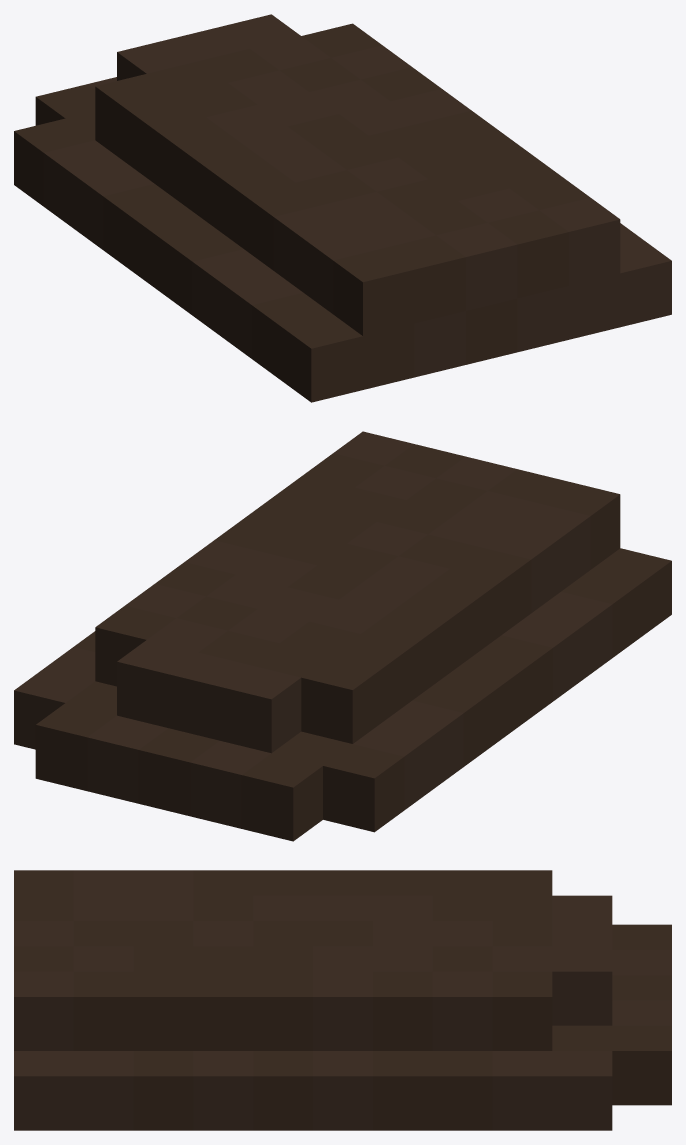
File: farm-58-crop_base.obj
3 renders of one model, top to bottom at view 1: azimuth 30°, elevation 25°; view 2: azimuth 150°, elevation 25°; view 3: azimuth 270°, elevation 25°, orthographic.
Visible parts, largest first — view 1: crop_base; view 2: crop_base; view 3: crop_base.
Boxes of the visible parts, left/top/right/bottom form: crop_base: left=14, top=14, right=671, bottom=402; crop_base: left=14, top=431, right=671, bottom=841; crop_base: left=14, top=870, right=671, bottom=1130.
Size of the model in its own units: 0.7 by 0.2 by 1.1.
Materials: 1 (1 with a texture image).
